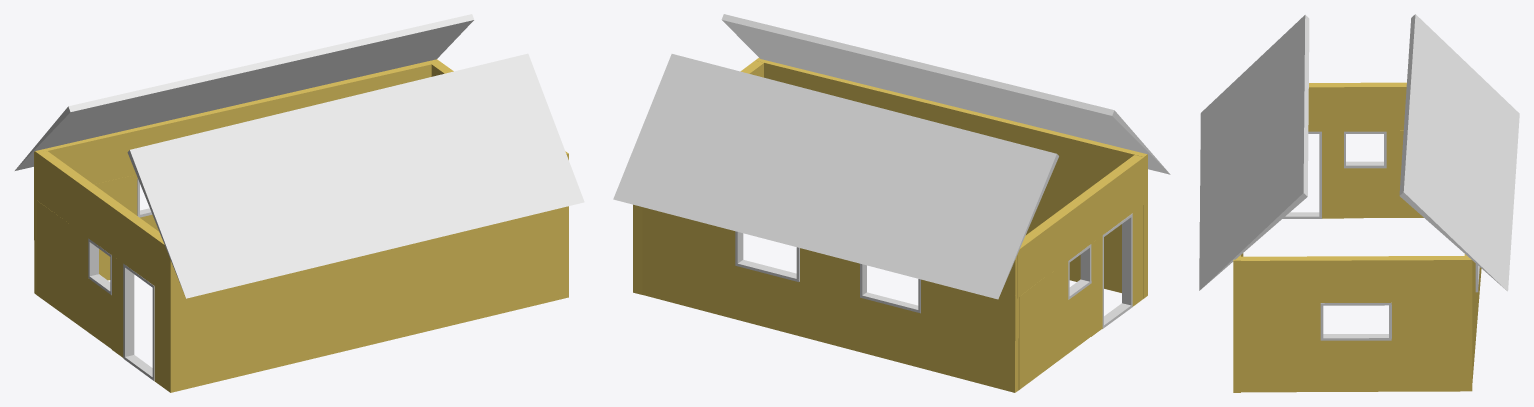
File: casadagaiolaTESTE7.fbx
3 renders of one model, left to right at view 1: azimuth 30°, elevation 25°; view 2: azimuth 150°, elevation 25°; view 3: azimuth 270°, elevation 25°, orthographic. The views are drawn at different scales.
Visible parts, largest first — view 1: Cube.010, Cube, Cube.009, Cube.002, Cube.003; view 2: Cube.009, Cube, Cube.010, Cube.001, Cube.004, Cube.006, Cube.003; view 3: Cube, Cube.009, Cube.010, Cube.007, Cube.003.
Part boxes in pixels (x1,y1,x2,y2): Cube.010: (127, 53, 584, 298); Cube: (34, 59, 568, 392); Cube.009: (15, 14, 474, 170); Cube.002: (123, 263, 134, 359); Cube.003: (88, 238, 111, 295); Cube.009: (613, 54, 1058, 299); Cube: (633, 58, 1147, 392); Cube.010: (721, 14, 1170, 174); Cube.001: (1122, 213, 1132, 307); Cube.004: (735, 231, 799, 281); Cube.006: (860, 263, 920, 313); Cube.003: (1068, 244, 1091, 299); Cube: (1233, 82, 1481, 392); Cube.009: (1399, 14, 1519, 291); Cube.010: (1199, 15, 1309, 290); Cube.007: (1320, 302, 1391, 340); Cube.003: (1344, 131, 1386, 168).
Bounding box in the file's own units: 566 × 292 × 426.
